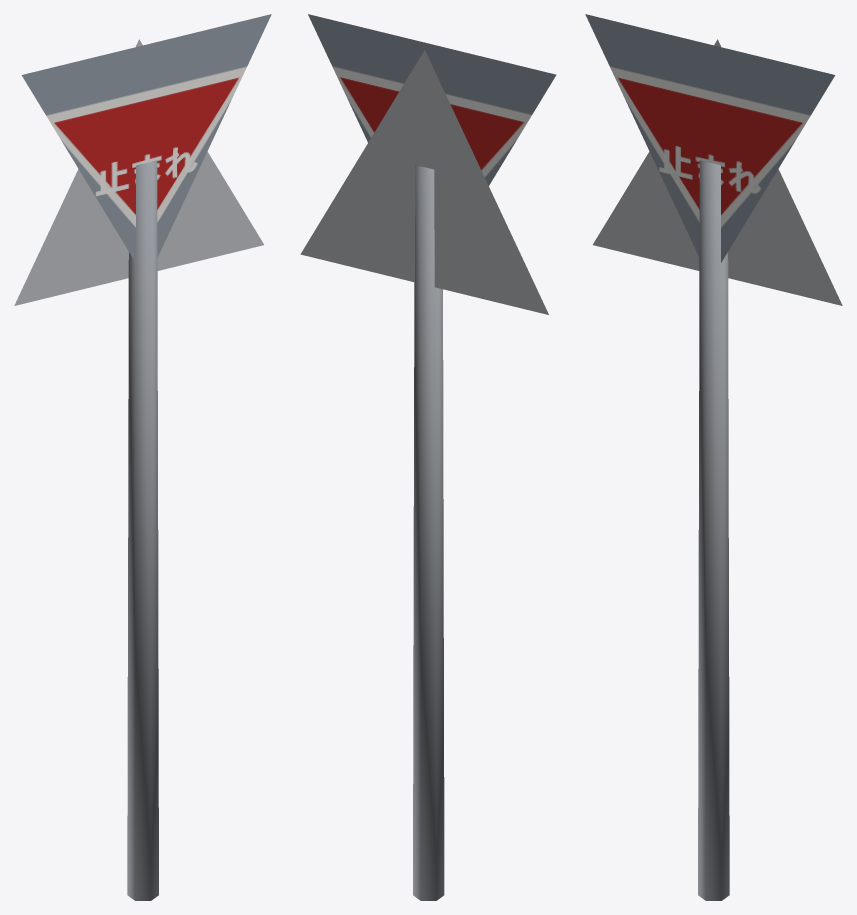
File: prop-sign-stop2.glb
3 renders of one model, left to right at view 1: azimuth 30°, elevation 25°; view 2: azimuth 150°, elevation 25°; view 3: azimuth 330°, elevation 25°, orthographic.
Parts seen in each view (by area): view 1: sign-face, sign-post, sign-back; view 2: sign-back, sign-post, sign-face; view 3: sign-face, sign-post, sign-back.
Part boxes in pixels (box(x1,y1,x2,y2)): sign-face: box(21, 14, 271, 262); sign-post: box(127, 160, 158, 900); sign-back: box(14, 39, 263, 305); sign-back: box(300, 50, 548, 314); sign-post: box(413, 165, 444, 900); sign-face: box(308, 14, 556, 185); sign-face: box(585, 14, 835, 262); sign-post: box(698, 160, 729, 900); sign-back: box(593, 39, 842, 305).
Bounding box in the file's own units: 0.82 × 2.67 × 0.09.
3 materials, 1 textured.
